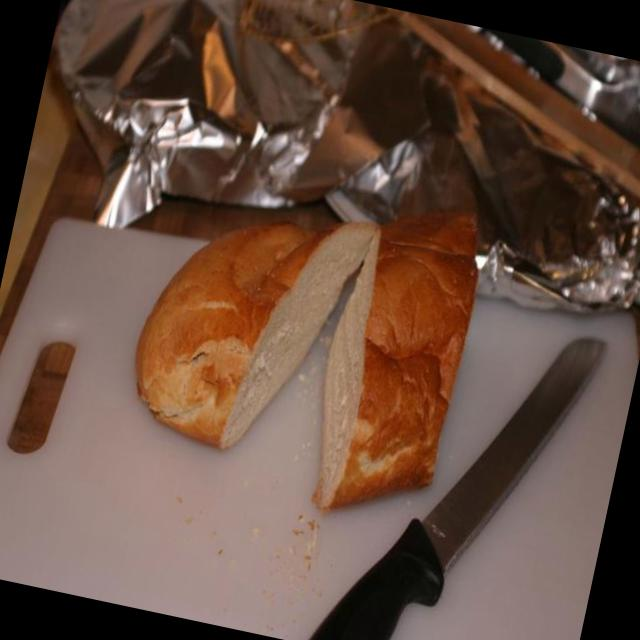Knife: (309, 338, 605, 640)
